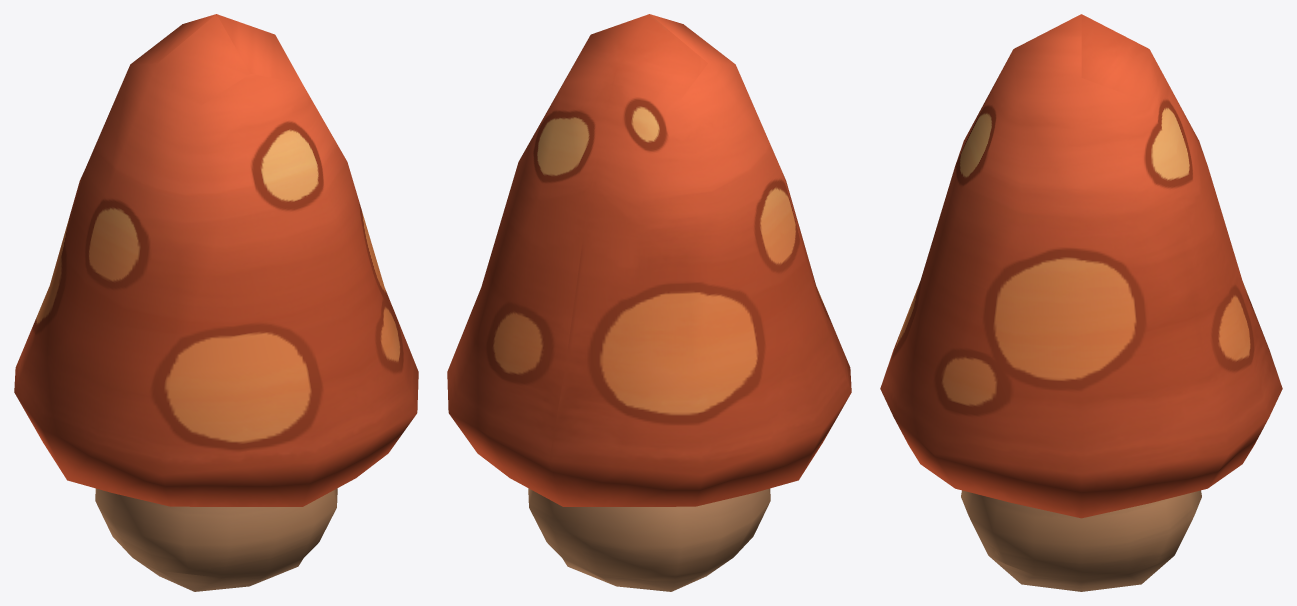
Rendered from MushroomSmall.fbx.
3 renders of one model, left to right at view 1: azimuth 30°, elevation 25°; view 2: azimuth 150°, elevation 25°; view 3: azimuth 270°, elevation 25°, orthographic.
Visible parts, largest first — view 1: pCube7; view 2: pCube7; view 3: pCube7.
Part boxes in pixels (x1,y1,x2,y2): pCube7: (14,14,418,591); pCube7: (447,14,851,591); pCube7: (880,14,1282,591).
Bounding box in the file's own units: 54.65 × 83.45 × 54.65.
